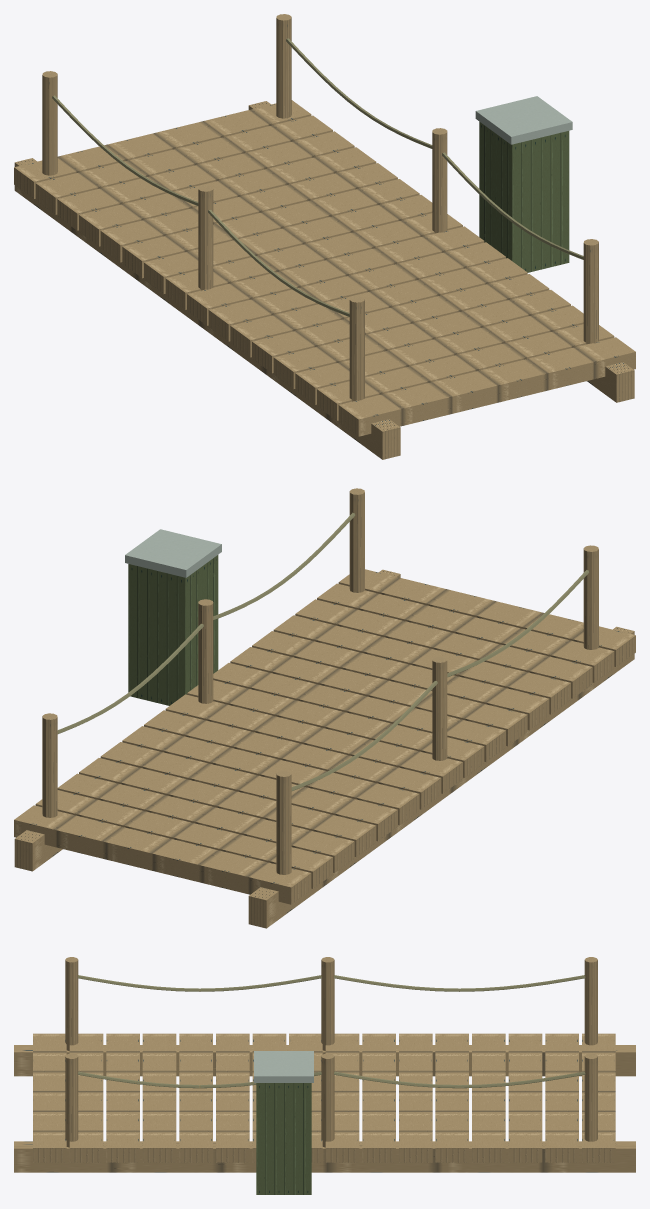
Rendered from boardwalk.glb.
3 renders of one model, top to bottom at view 1: azimuth 30°, elevation 25°; view 2: azimuth 150°, elevation 25°; view 3: azimuth 270°, elevation 25°, orthographic. The views are drawn at different scales.
Parts seen in each view (by area): view 1: boardwalk; view 2: boardwalk; view 3: boardwalk.
Part boxes in pixels (<box>): boardwalk: <box>14,14,635,459</box>; boardwalk: <box>14,488,635,928</box>; boardwalk: <box>14,957,635,1194</box>.
Size of the model in its own units: 2.3 by 0.975 by 4.25.
Materials: 1 (1 with a texture image).
